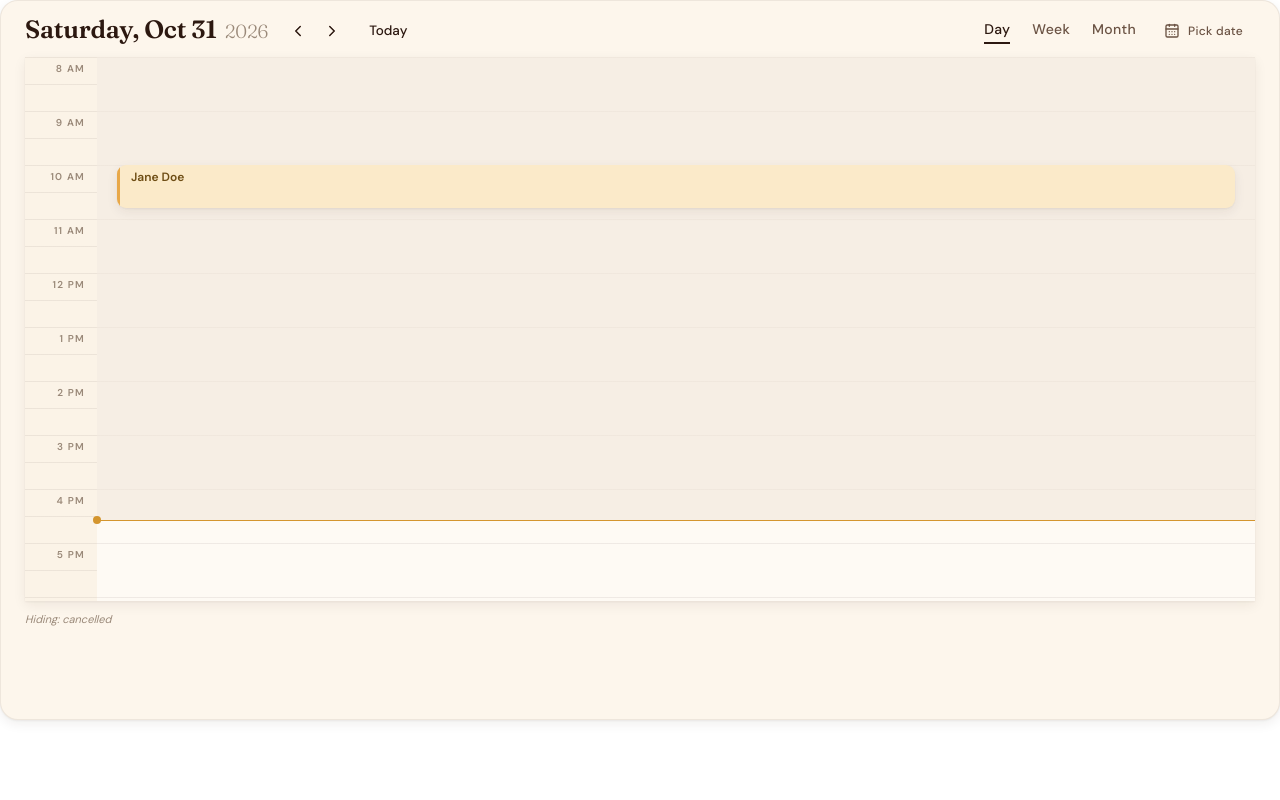
Test case: EditorialCalendar › shows the generic copy when a status change is rejected with a non-conflict error
(page scrolled)
Right-click the button "Jane Doe" at (676, 187), box [113,165,1239,208]
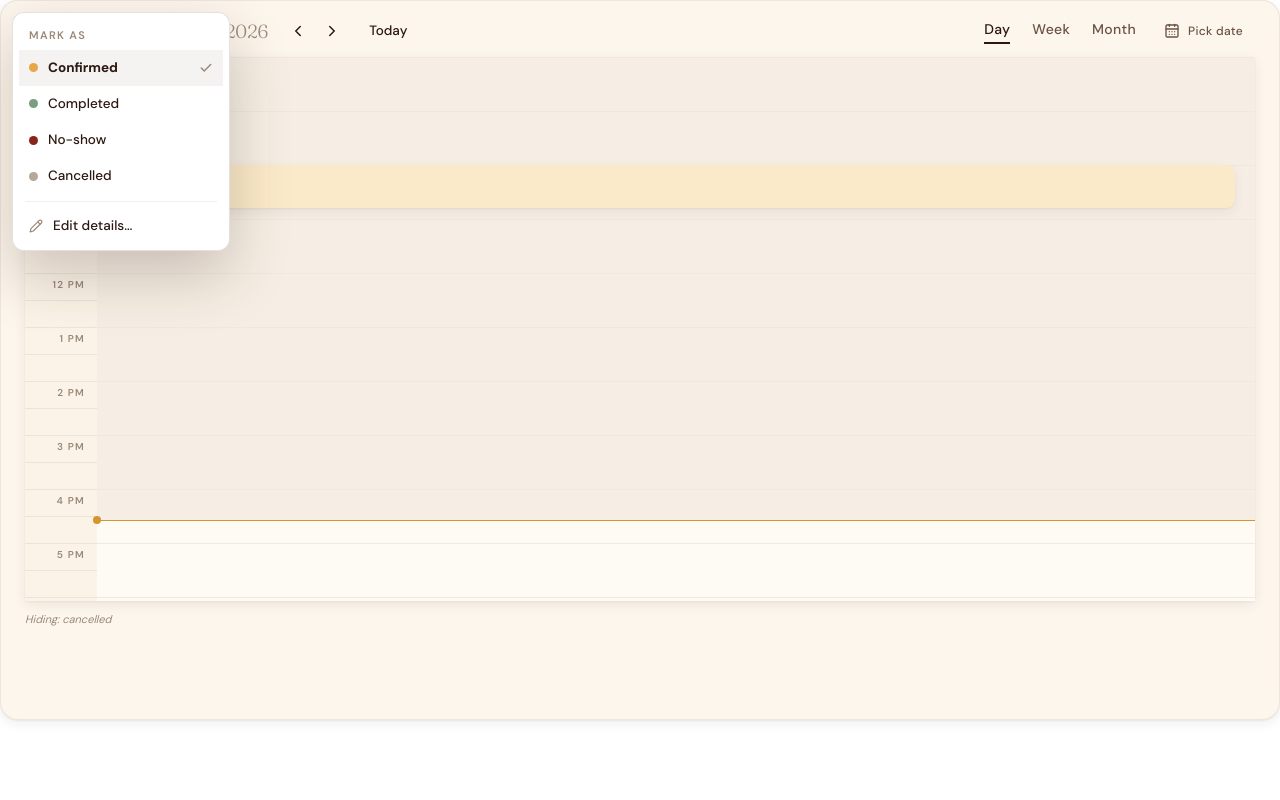
Click the menu item "No-show" at (121, 140), box [19,122,223,158]
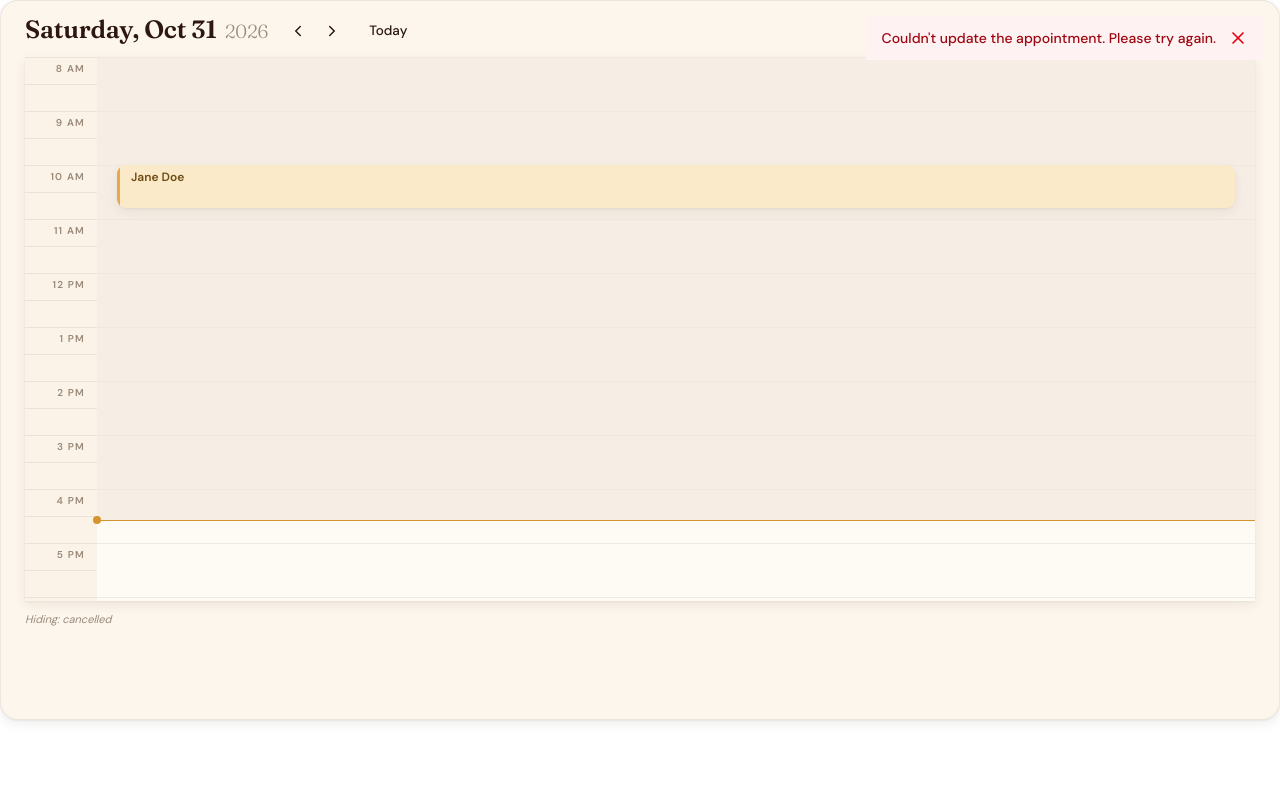
Check: the text "Couldn't update the appointment. Please try again." is shown, box [882,28,1216,48]
